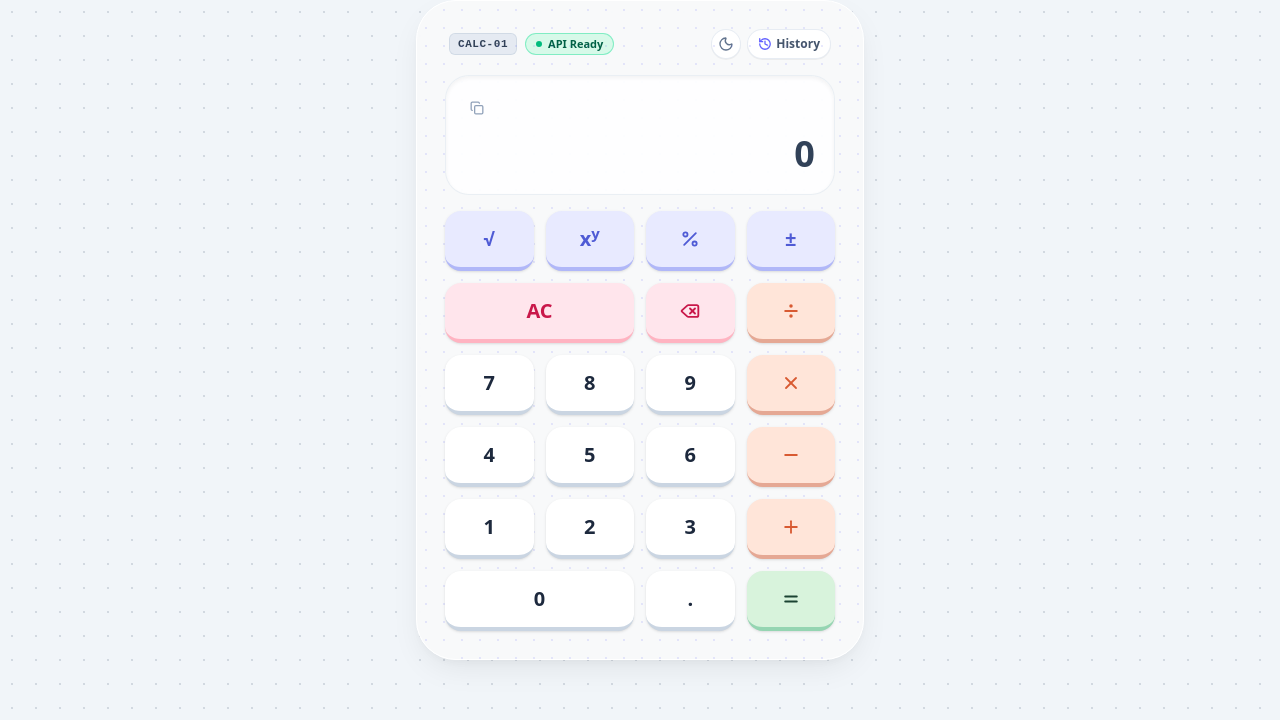
Test: Calculator Component Integration › displays API error alert and auto-clears on new input
Click the button with test id "btn-5". click: (590, 457)
box: [546, 427, 634, 487]
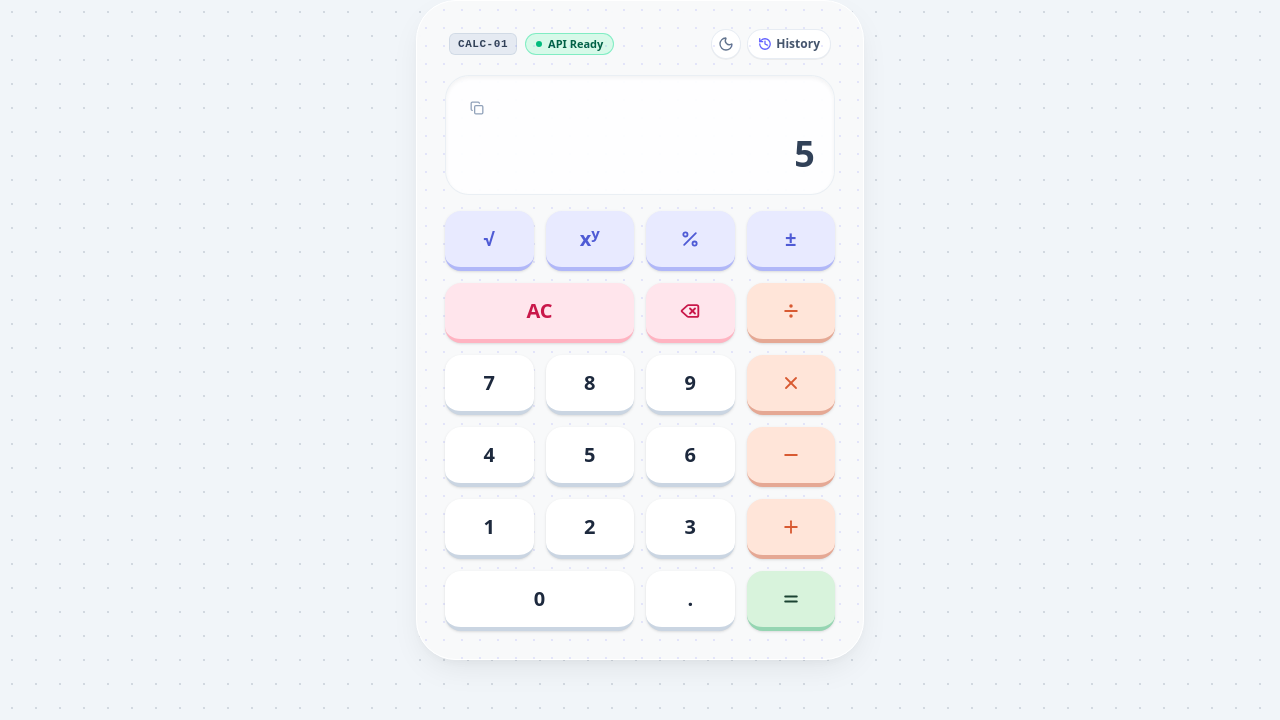
Click the button with test id "btn-divide". click: (791, 313)
box: [746, 283, 835, 343]
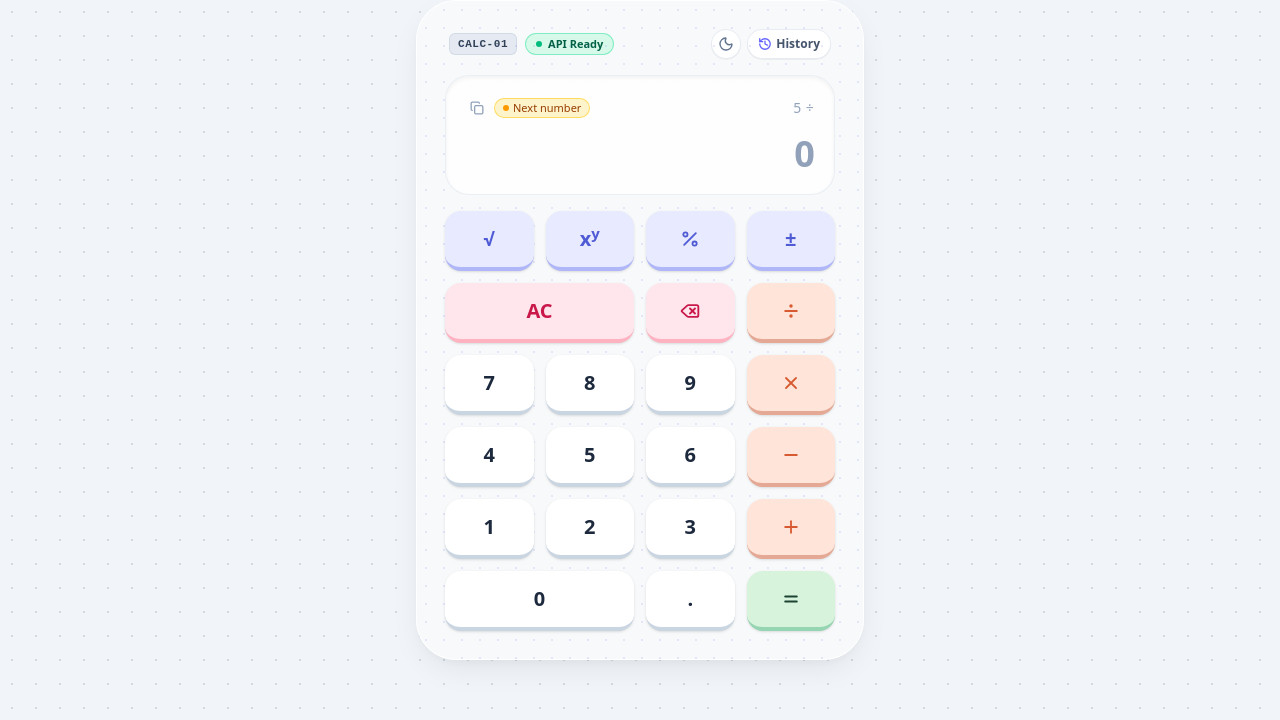
Click the button with test id "btn-0". click: (540, 601)
box: [445, 571, 634, 631]
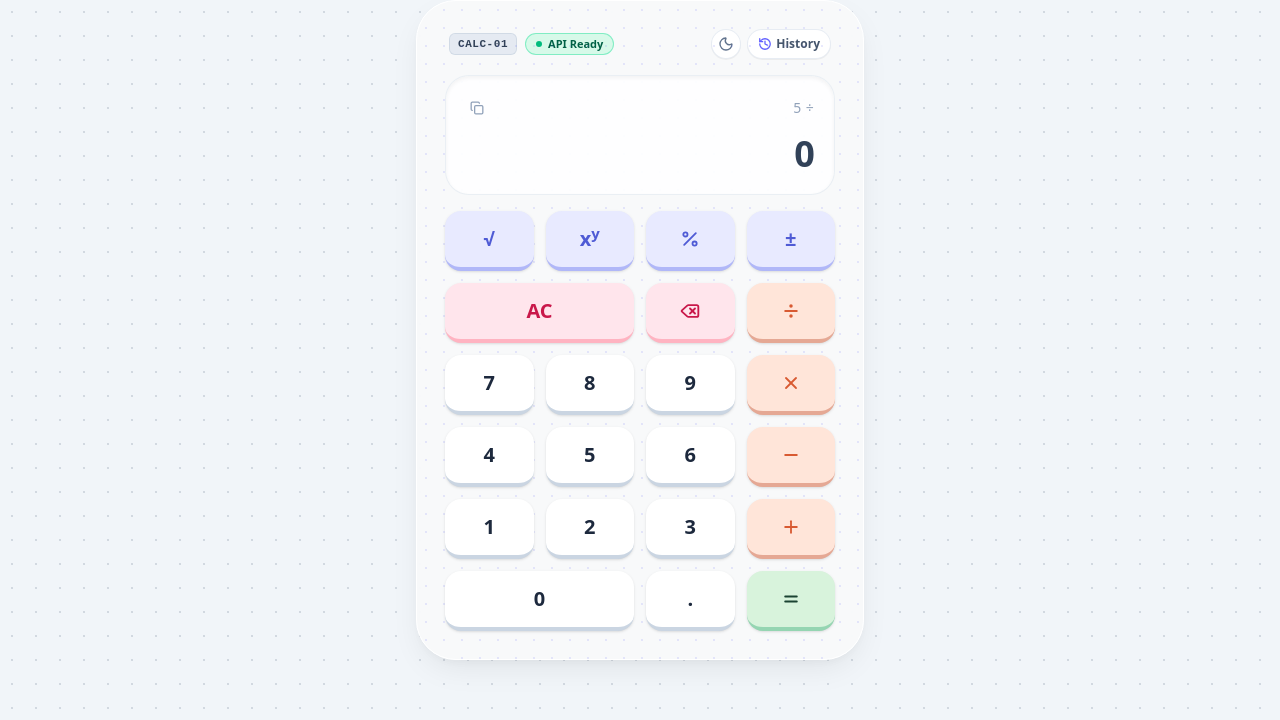
Click the button with test id "btn-equals". click: (791, 601)
box: [746, 571, 835, 631]
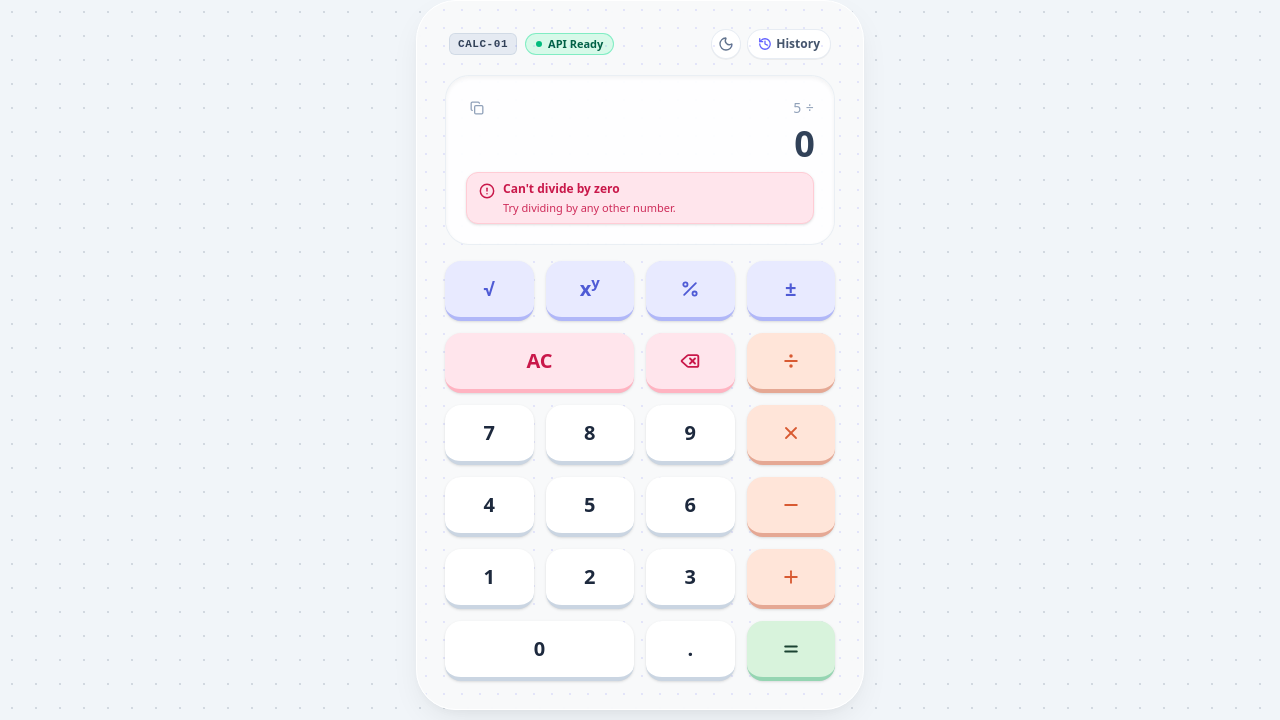
Expected: the message "Can't divide by zero Try dividing by any other number." is shown, [466, 172, 814, 224]
Expected: the message shows "Can't divide by zero", [503, 180, 620, 197]
Expected: the message shows "Try dividing by any other number.", [503, 200, 676, 214]
# Typing a new digit clears the error
Click the button with test id "btn-9". click: (690, 435)
box: [646, 405, 734, 465]
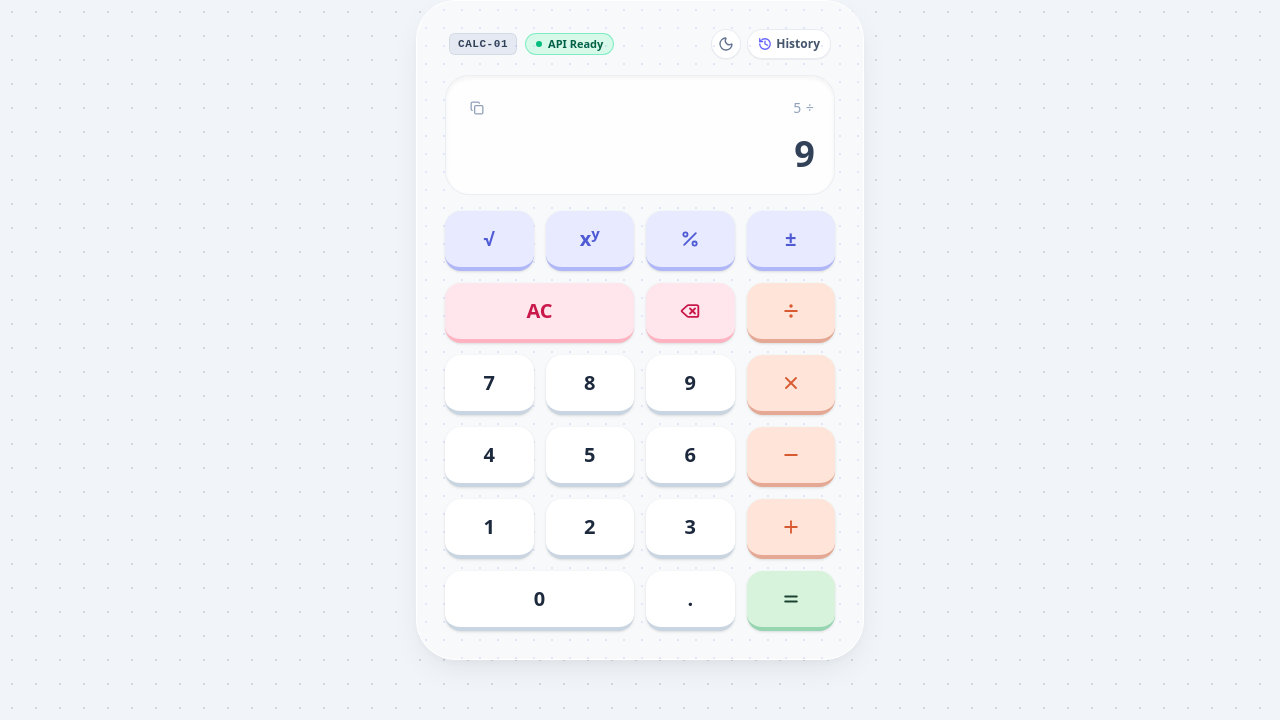
Expected: the message "Can't divide by zero Try dividing by any other number." is gone
Expected: the text with test id "display-value" reads "9", [794, 129, 814, 178]
